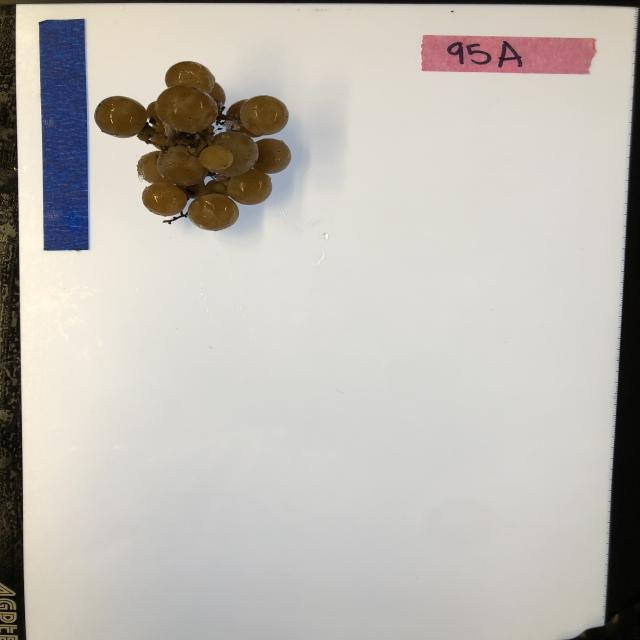grape_cluster: (95, 59, 294, 231)
index: (422, 34, 598, 76)
measure_label: (39, 18, 91, 252)
